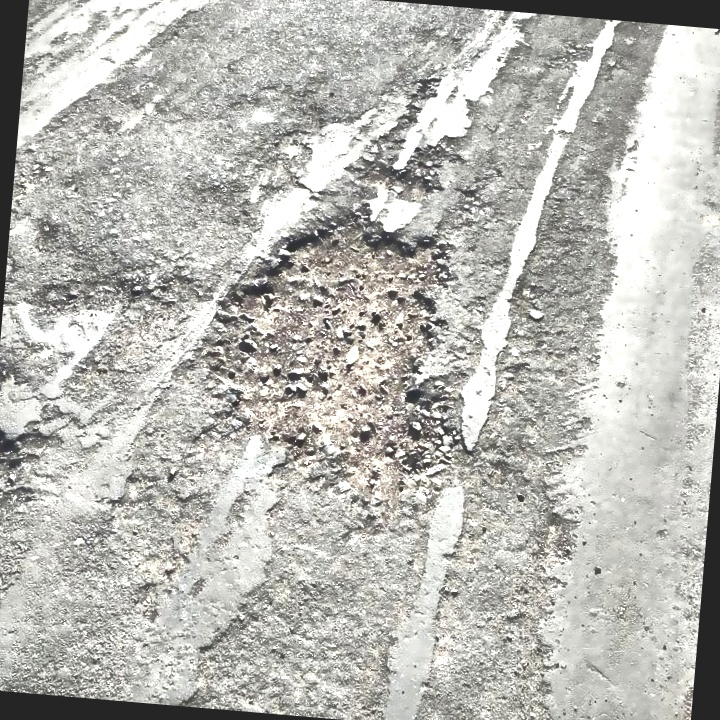pothole: (192, 197, 481, 511)
